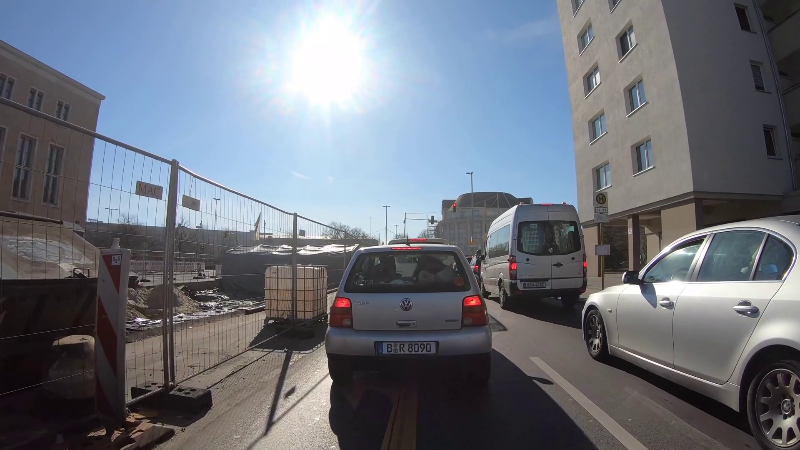Plate: (373, 338, 439, 359), (522, 280, 550, 289)
